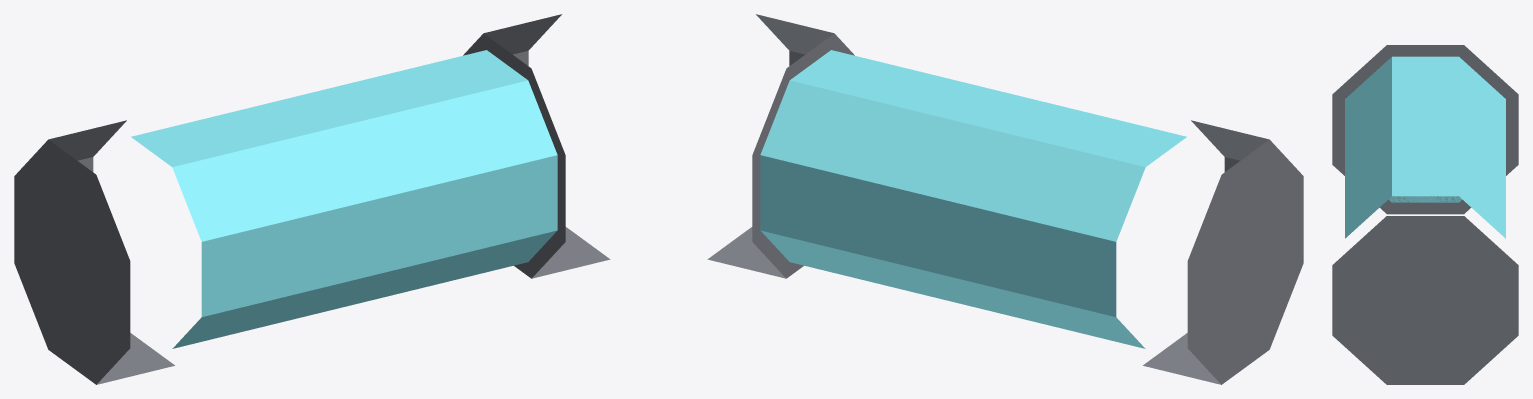
File: energy_shell.gltf
3 renders of one model, left to right at view 1: azimuth 30°, elevation 25°; view 2: azimuth 150°, elevation 25°; view 3: azimuth 270°, elevation 25°, orthographic. The views are drawn at different scales.
Parts seen in each view (by area): view 1: energy_shell; view 2: energy_shell; view 3: energy_shell.
Part boxes in pixels (box(x1,y1,x2,y2)): energy_shell: box(14, 14, 610, 384); energy_shell: box(707, 14, 1303, 384); energy_shell: box(1332, 45, 1518, 384).
Size of the model in its own units: 0.052 by 0.0203 by 0.0203.
